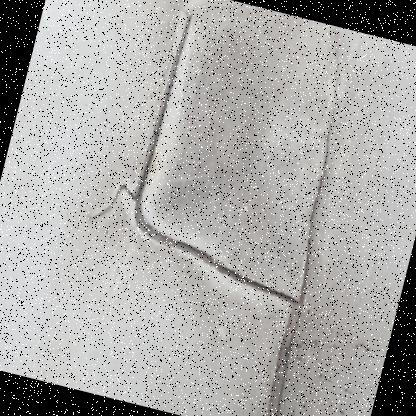Crack: (26, 0, 407, 415)
